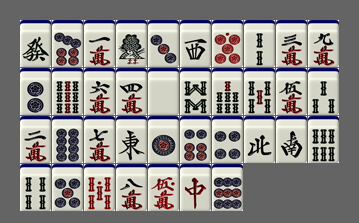0m: (148, 164, 179, 211)
0p: (212, 20, 243, 67)
0s: (84, 164, 115, 211)
1m: (84, 20, 115, 67)
1p: (148, 116, 179, 163)
1s: (116, 20, 147, 67)
1z: (116, 116, 147, 163)
2m: (20, 116, 51, 163)
2p: (20, 68, 51, 115)
2s: (244, 20, 275, 67)
2z: (276, 116, 307, 163)
3m: (276, 20, 307, 67)
3p: (148, 20, 179, 67)
3s: (308, 68, 339, 115)
3z: (180, 20, 211, 67)
4m: (116, 68, 147, 115)
4p: (212, 116, 243, 163)
4s: (20, 164, 51, 211)
4z: (244, 116, 275, 163)
5m: (276, 68, 307, 115)
5p: (52, 164, 83, 211)
5s: (244, 68, 275, 115)
5z: (148, 68, 179, 115)
6m: (84, 68, 115, 115)
6p: (180, 116, 211, 163)
6s: (308, 116, 339, 163)
6z: (20, 20, 51, 67)
7m: (84, 116, 115, 163)
7p: (52, 20, 83, 67)
7s: (212, 68, 243, 115)
7z: (180, 164, 211, 211)
8m: (116, 164, 147, 211)
8p: (52, 116, 83, 163)
8s: (180, 68, 211, 115)
9m: (308, 20, 339, 67)
9p: (212, 164, 243, 211)
9s: (52, 68, 83, 115)
